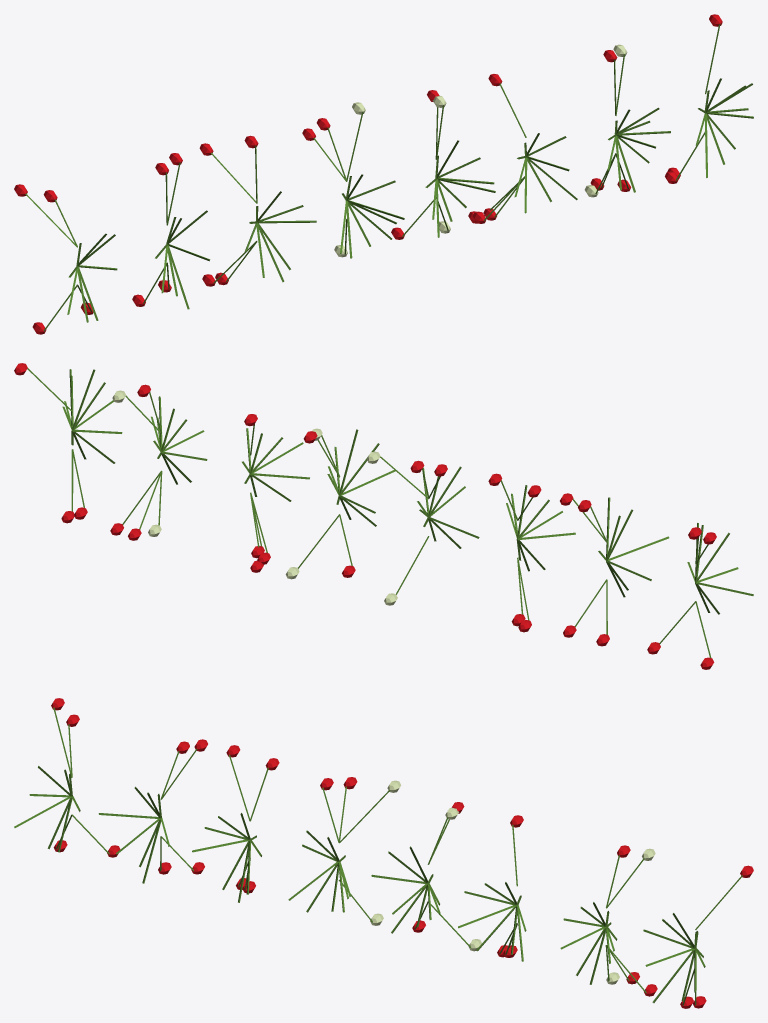
Rendered from r1c4_rest.obj.
3 views of the same model, one above another, from view 1: azimuth 30°, elevation 25°; view 2: azimuth 150°, elevation 25°; view 3: azimuth 330°, elevation 25° (orthographic).
Parts seen in each view (by area): view 1: r1c4_rest; view 2: r1c4_rest; view 3: r1c4_rest.
Part boxes in pixels (x1,y1,x2,y2): r1c4_rest: (14,14,753,334); r1c4_rest: (14,363,753,669); r1c4_rest: (14,698,753,1008).
Bounding box in the file's own units: 1.97 × 0.3996 × 0.2569.
